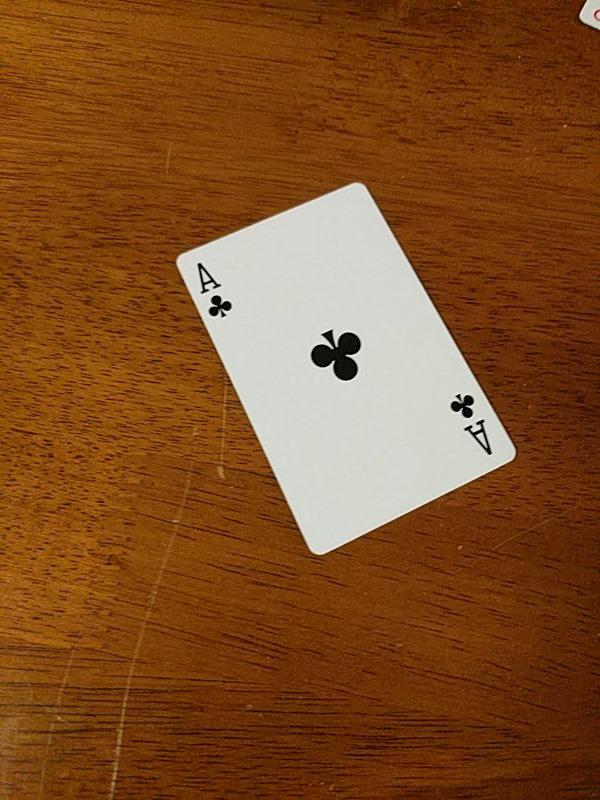Clubs: (177, 182, 517, 557)
